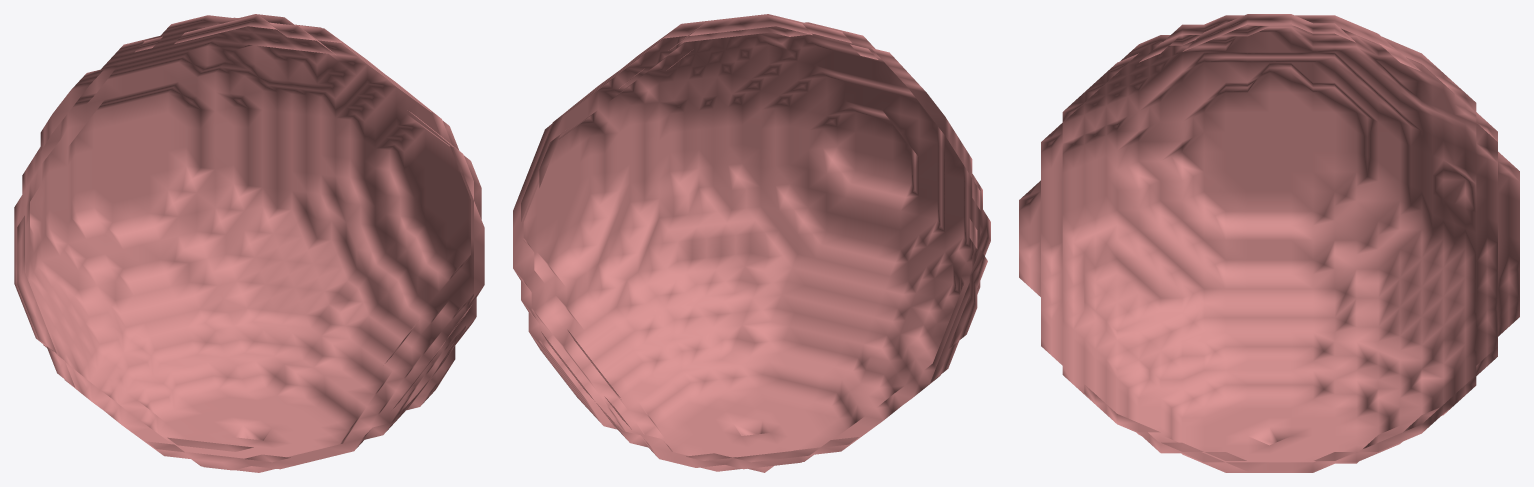
The model's file is 199541_occ.glb.
3 renders of one model, left to right at view 1: azimuth 30°, elevation 25°; view 2: azimuth 150°, elevation 25°; view 3: azimuth 270°, elevation 25°, orthographic. The views are drawn at different scales.
Parts seen in each view (by area): view 1: world; view 2: world; view 3: world.
Boxes of the visible parts, x1,y1,x2,y2 form: world: (14, 14, 484, 472); world: (513, 14, 990, 472); world: (1019, 14, 1519, 472).
Size of the model in its own units: 2.1 by 2.1 by 2.3.
